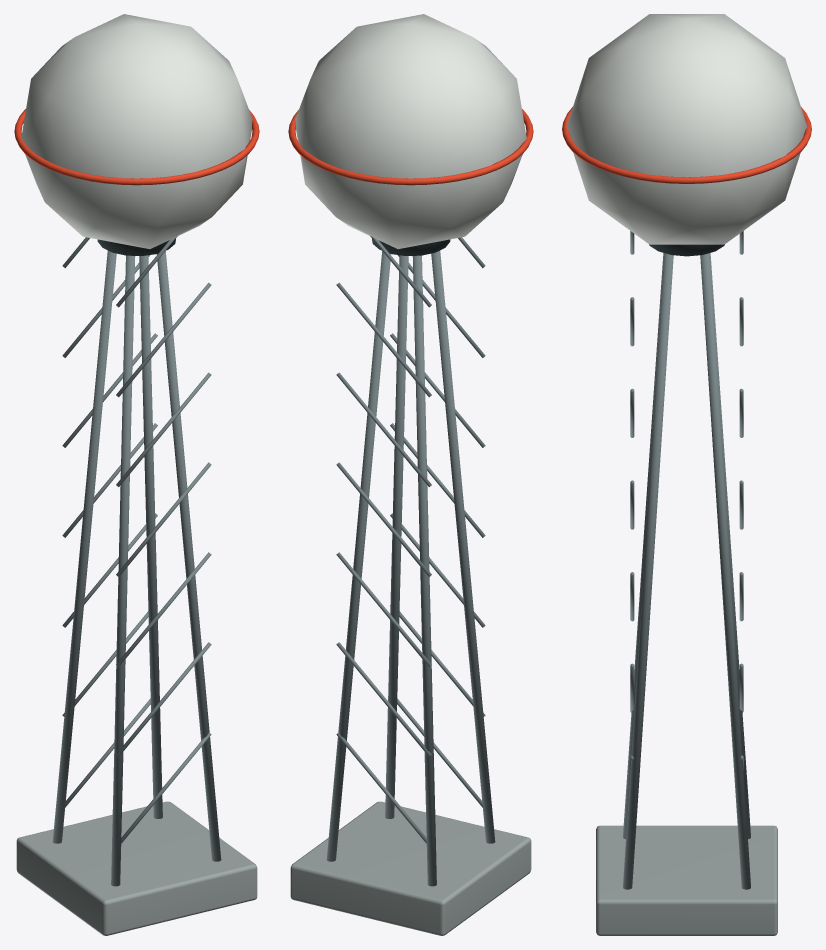
File: observatory.glb
The picture shows the model from 3 angles, left to right: view 1: azimuth 30°, elevation 25°; view 2: azimuth 150°, elevation 25°; view 3: azimuth 270°, elevation 25°; orthographic projection.
Visible parts, largest first — view 1: observatory; view 2: observatory; view 3: observatory.
Part boxes in pixels (bbox=[...]): observatory: bbox=[14, 14, 259, 935]; observatory: bbox=[288, 14, 533, 935]; observatory: bbox=[562, 14, 811, 935].
Bounding box in the file's own units: 12.36 × 48 × 12.36.
